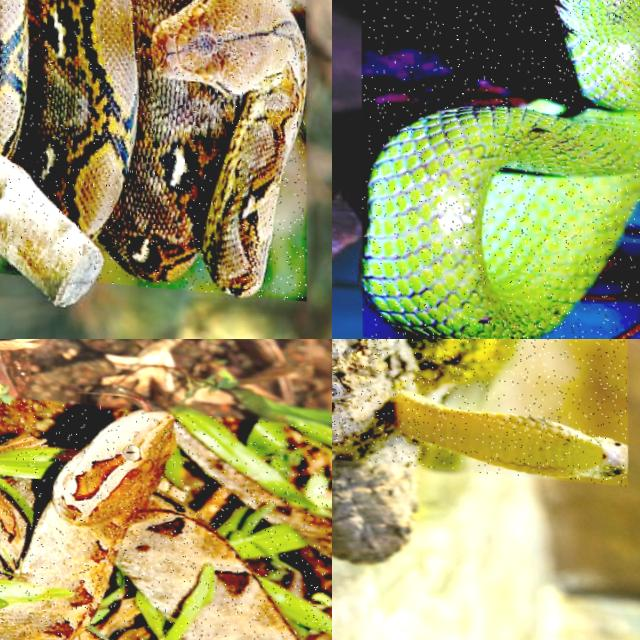Calloselasma rhodostoma: (0, 410, 331, 639)
Malayopython reticulatus: (0, 0, 305, 296)
Ophiophagus hannah: (392, 392, 627, 479)
Trimeresurus macrops: (362, 0, 639, 338)
